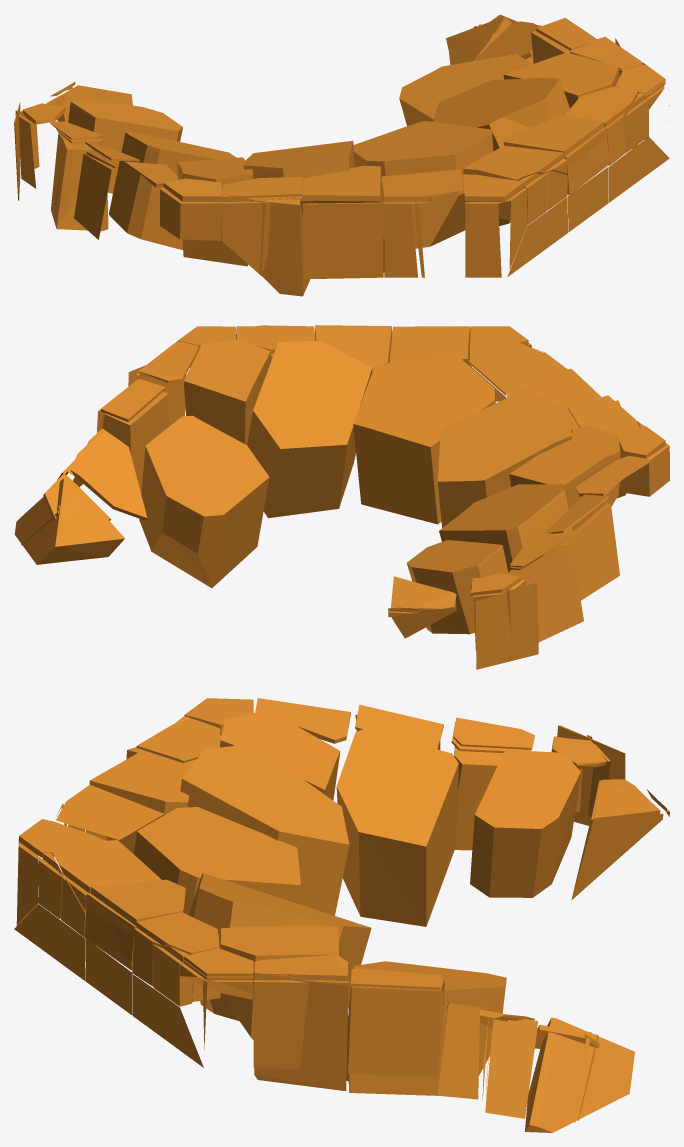
File: beigeFlooringTile_crack_02.fbx
3 views of the same model, one above another, from view 1: azimuth 30°, elevation 25°; view 2: azimuth 150°, elevation 25°; view 3: azimuth 270°, elevation 25° (orthographic). The views are drawn at different scales.
Visible parts, largest first — view 1: beigeFlooringTile_crack_02; view 2: beigeFlooringTile_crack_02; view 3: beigeFlooringTile_crack_02.
Boxes of the visible parts, x1,y1,x2,y2 form: beigeFlooringTile_crack_02: (14,14,669,296); beigeFlooringTile_crack_02: (14,325,669,669); beigeFlooringTile_crack_02: (14,698,669,1132).
Size of the model in its own units: 224 by 66.92 by 199.
